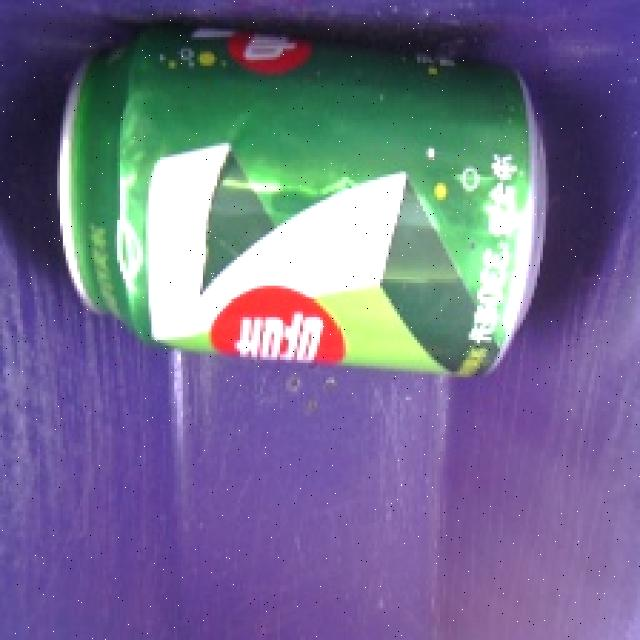metal: (30, 5, 572, 398)
